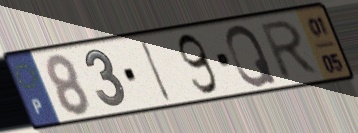3: (83, 46, 128, 111)
8: (44, 52, 93, 118)
9: (176, 31, 220, 96)
I: (138, 37, 174, 104)
Q: (224, 22, 279, 89)
R: (258, 17, 323, 83)
